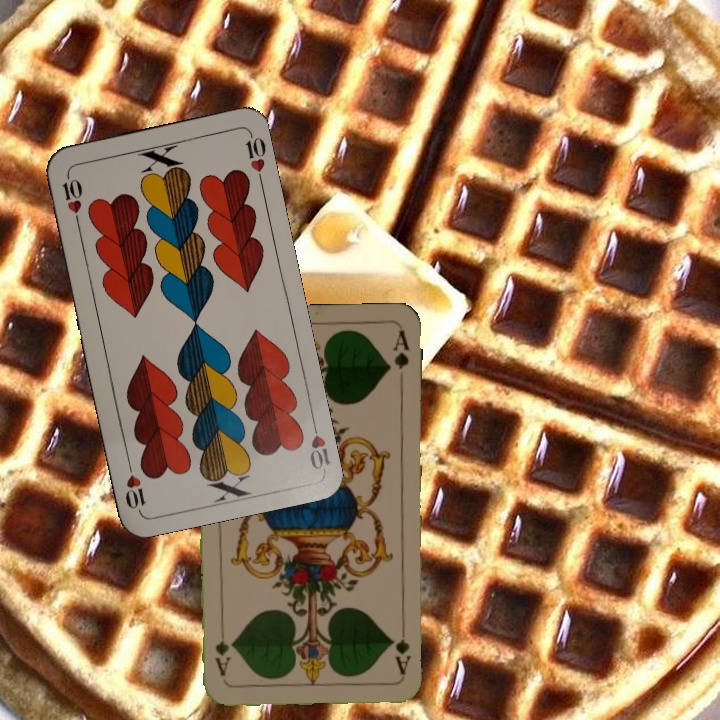GA: (392, 618, 413, 677)
H10: (57, 170, 85, 229), (305, 414, 332, 473)
